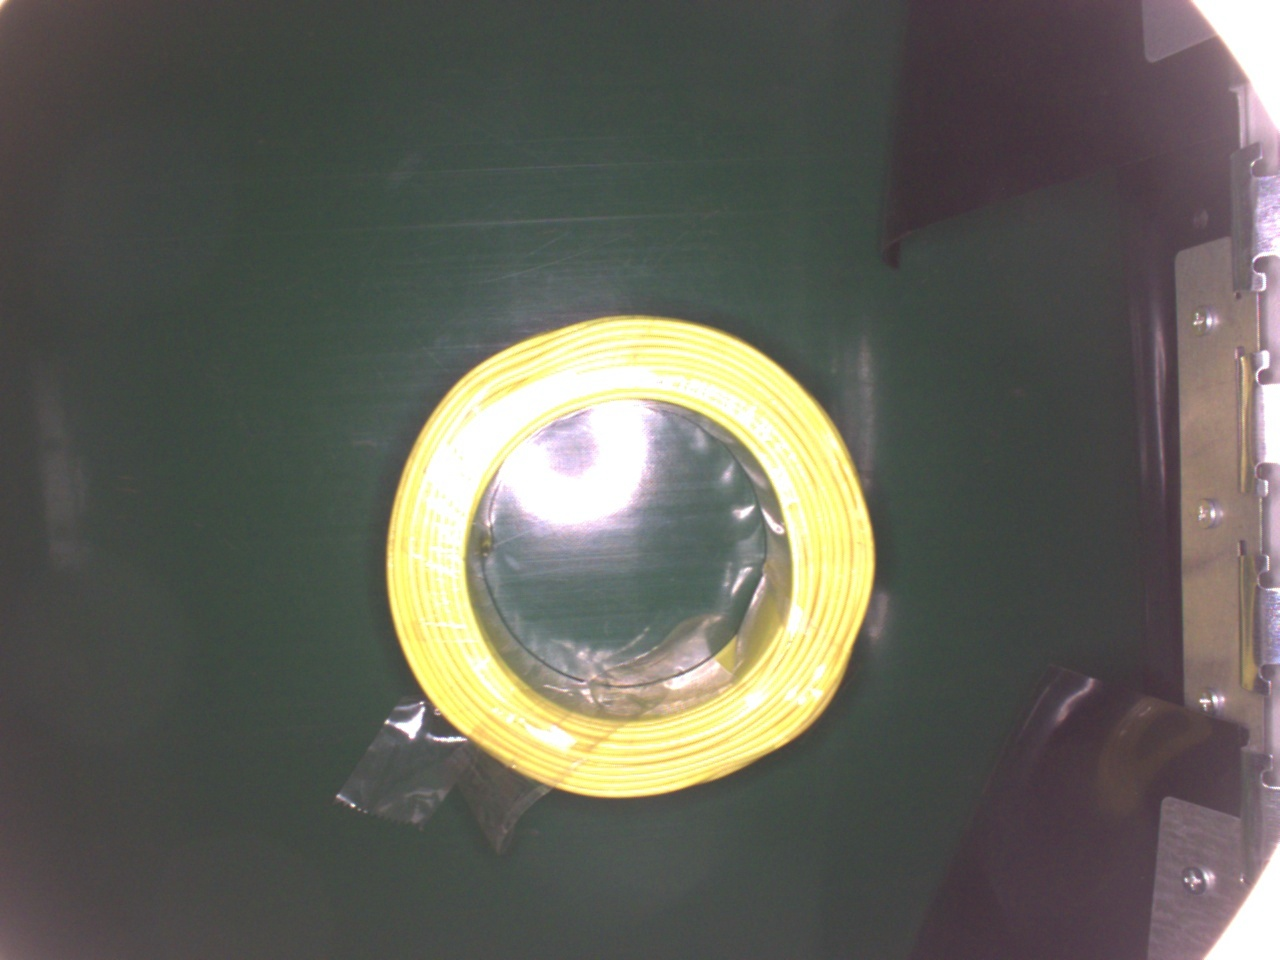yellow: (381, 311, 879, 800)
